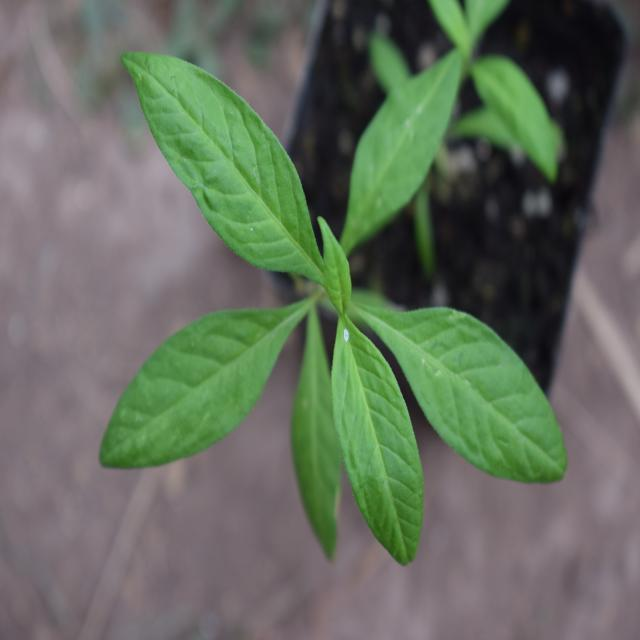white_smart_weed: (90, 0, 546, 542)
